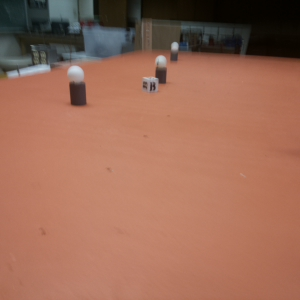blockB: (140, 76, 159, 93)
corner: (139, 19, 154, 52)
obstacle: (65, 64, 89, 107), (153, 54, 171, 74), (170, 41, 181, 54)
